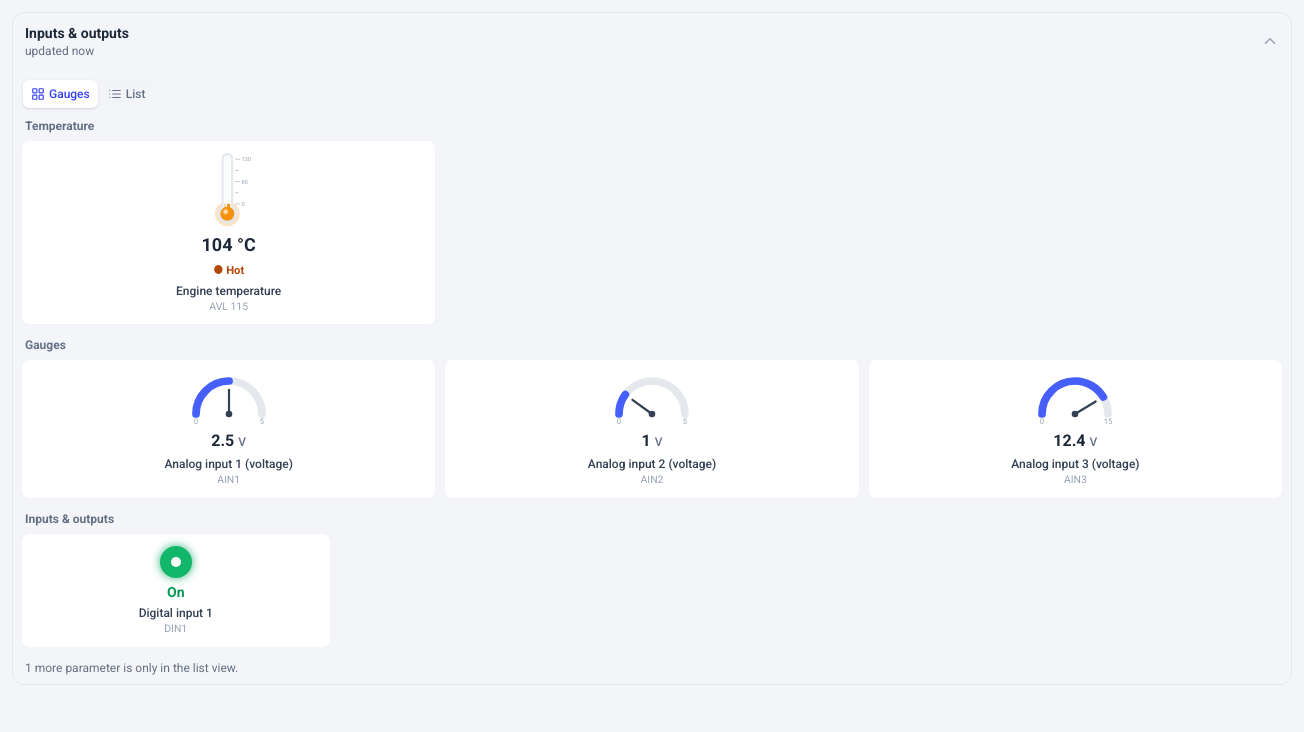
Test: FmbIoPanelView gauges › switches to the list and remembers it
Click the button "List". click: (127, 94)
box: [100,80,153,108]
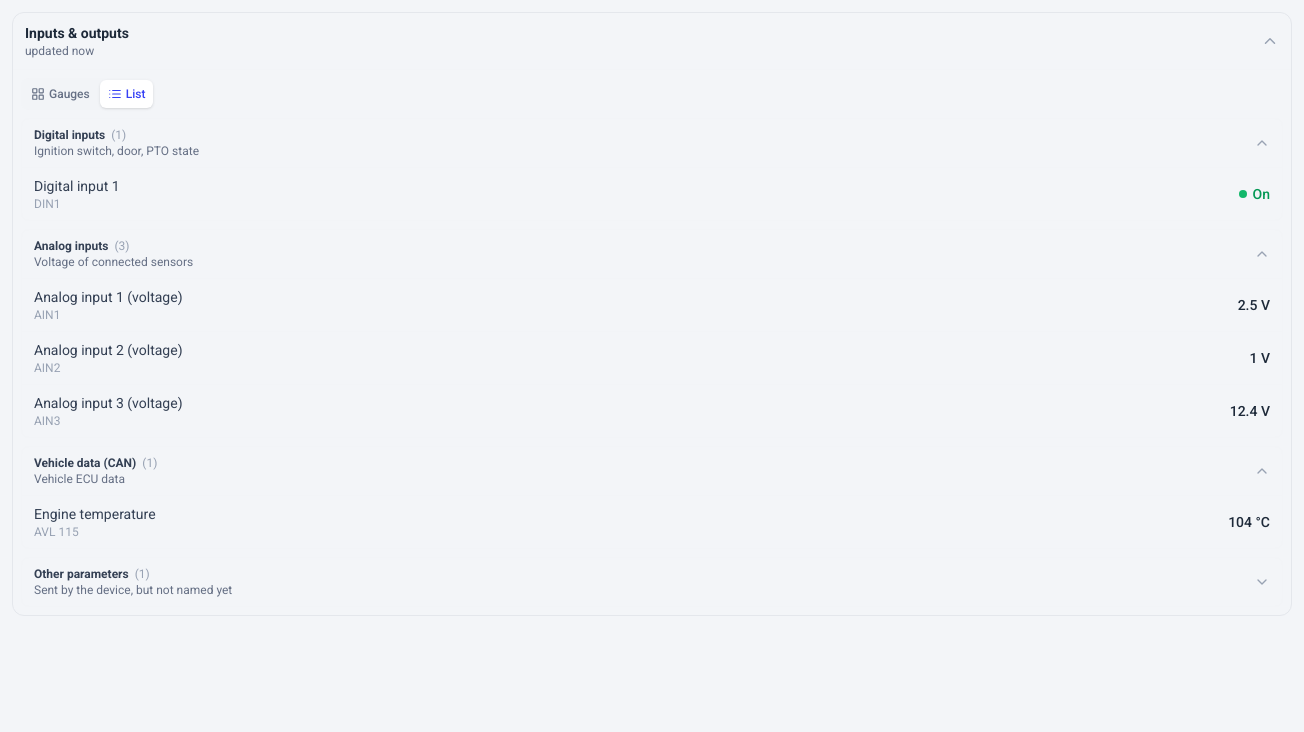
Expected: the text "Analog input 1 (voltage)" is shown, [34,287,182,307]
Result: the element with test id "fmb-io-gauges" is gone
